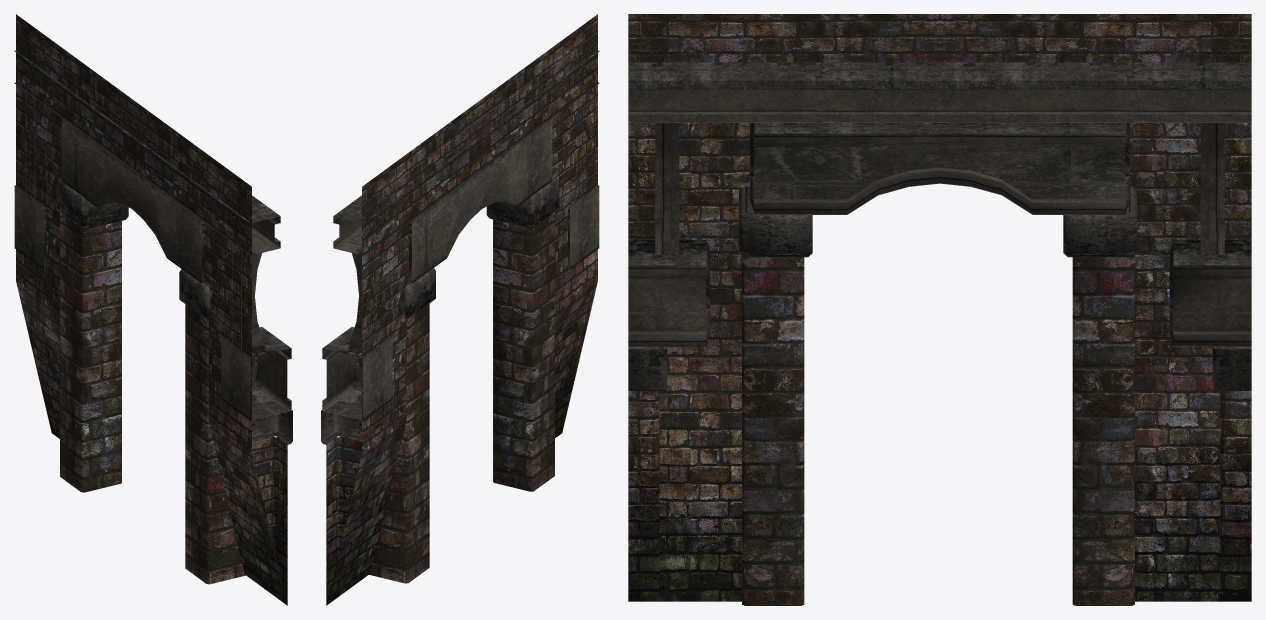
File: sewer_wall_high_tunnel_entrance.DAE
3 renders of one model, left to right at view 1: azimuth 30°, elevation 25°; view 2: azimuth 150°, elevation 25°; view 3: azimuth 270°, elevation 25°, orthographic. The views are drawn at different scales.
Parts seen in each view (by area): view 1: sewer_wall_high_tunnel_entrance, sewer_wall_high_support_tunnel_entrance, sewer_stairs_wall_high_003; view 2: sewer_wall_high_tunnel_entrance, sewer_wall_high_support_tunnel_entrance, sewer_stairs_wall_high_003; view 3: sewer_wall_high_tunnel_entrance, sewer_wall_high_support_tunnel_entrance, sewer_stairs_wall_high_003.
Part boxes in pixels (left/top/right/bottom): sewer_wall_high_tunnel_entrance: left=16, top=74, right=287, bottom=605; sewer_wall_high_support_tunnel_entrance: left=14, top=50, right=292, bottom=444; sewer_stairs_wall_high_003: left=16, top=14, right=251, bottom=245; sewer_wall_high_tunnel_entrance: left=326, top=74, right=597, bottom=605; sewer_wall_high_support_tunnel_entrance: left=321, top=50, right=599, bottom=444; sewer_stairs_wall_high_003: left=362, top=14, right=597, bottom=245; sewer_wall_high_tunnel_entrance: left=628, top=123, right=1251, bottom=605; sewer_wall_high_support_tunnel_entrance: left=628, top=62, right=1251, bottom=391; sewer_stairs_wall_high_003: left=628, top=14, right=1251, bottom=62.
Bounding box in the file's own units: 0.4786 × 4.01 × 4.
